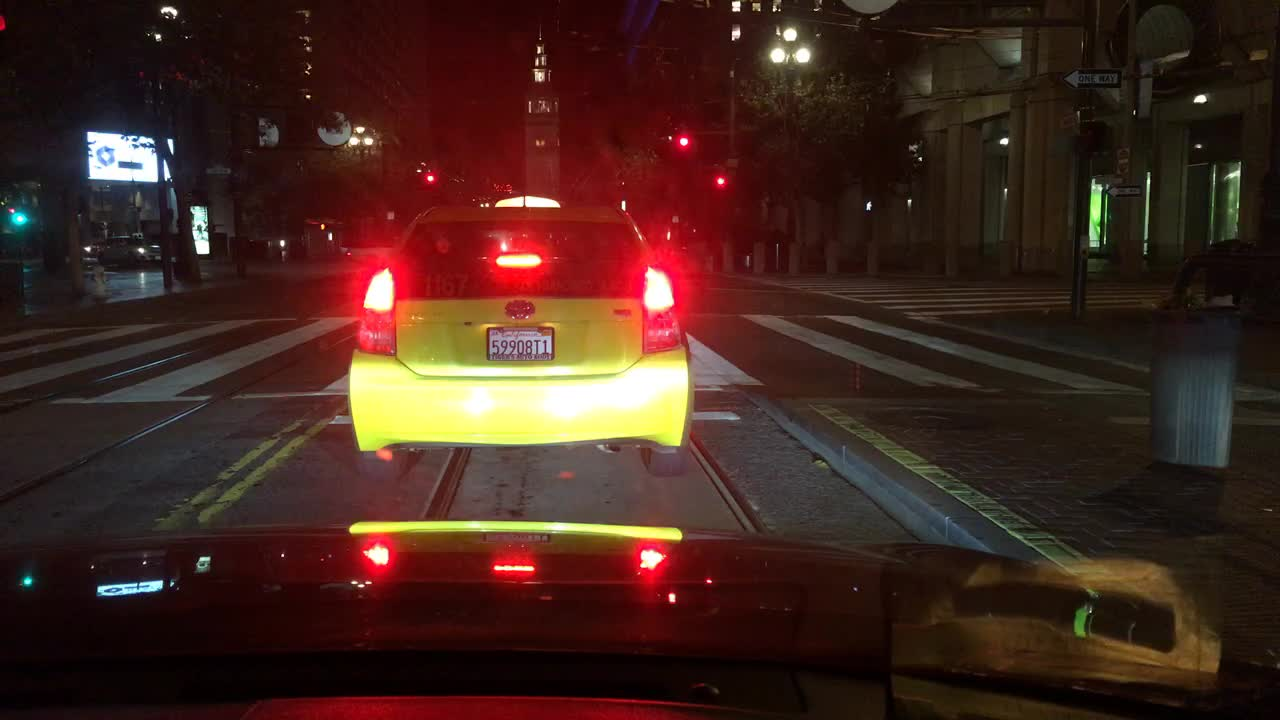car: (343, 190, 696, 478), (95, 233, 166, 270)
traffic light: (1073, 119, 1112, 157), (6, 203, 32, 234), (707, 168, 733, 192), (668, 126, 690, 152), (421, 170, 441, 192), (315, 220, 330, 237)
traffic sign: (1063, 67, 1121, 91), (1112, 143, 1136, 183), (1105, 179, 1143, 201), (385, 207, 401, 225)
